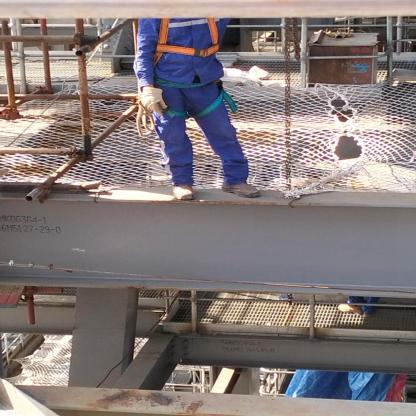bota: (217, 179, 261, 199), (170, 180, 200, 203)
